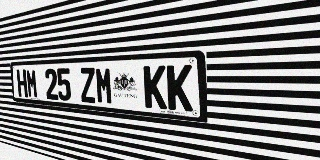2: (45, 68, 58, 100)
5: (57, 68, 71, 101)
H: (16, 69, 28, 97)
K: (167, 65, 193, 112), (143, 65, 167, 109)
M: (95, 67, 113, 105), (26, 69, 38, 98)
Z: (79, 67, 96, 103)
